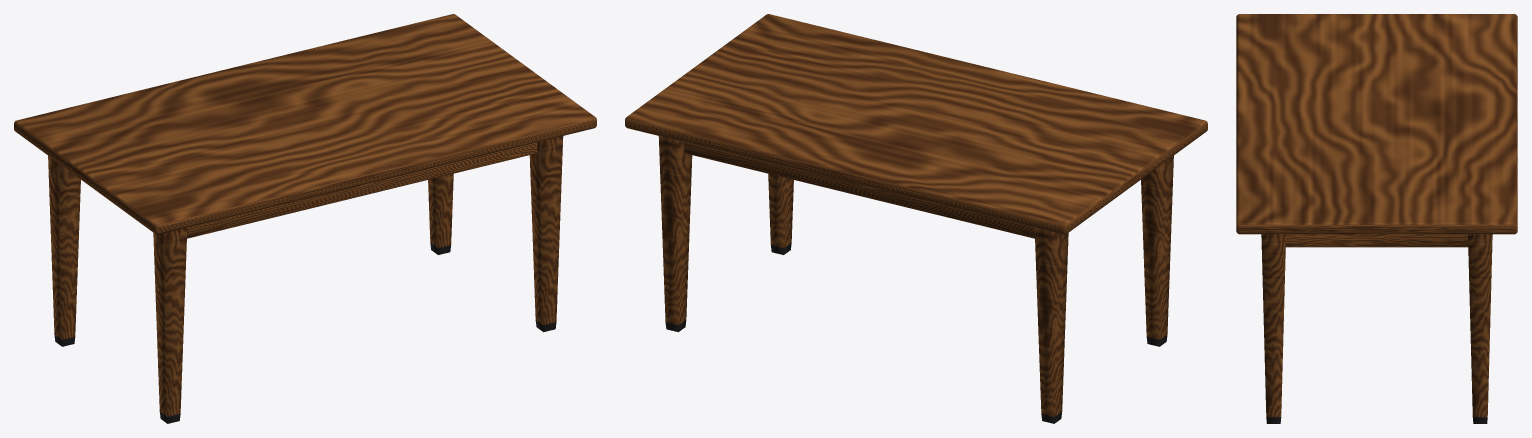
File: dining_table.glb
The picture shows the model from 3 angles, left to right: view 1: azimuth 30°, elevation 25°; view 2: azimuth 150°, elevation 25°; view 3: azimuth 270°, elevation 25°; orthographic projection.
Visible parts, largest first — view 1: Masa_Tablasi, Ayak_OnSol, Ayak_OnSag, Ayak_ArkaSol, Cerceve_On, Ayak_ArkaSag; view 2: Masa_Tablasi, Ayak_ArkaSol, Ayak_ArkaSag, Ayak_OnSol, Cerceve_Arka, Ayak_OnSag; view 3: Masa_Tablasi, Ayak_ArkaSag, Ayak_OnSag, Cerceve_Sag.
Part boxes in pixels (left/top/right/bottom): Masa_Tablasi: left=14, top=14, right=596, bottom=234; Ayak_OnSol: left=153, top=227, right=187, bottom=416; Ayak_OnSag: left=529, top=136, right=563, bottom=325; Ayak_ArkaSol: left=48, top=156, right=80, bottom=339; Cerceve_On: left=187, top=142, right=537, bottom=238; Ayak_ArkaSag: left=428, top=173, right=453, bottom=248; Masa_Tablasi: left=625, top=14, right=1207, bottom=234; Ayak_ArkaSol: left=1034, top=228, right=1068, bottom=416; Ayak_ArkaSag: left=658, top=136, right=692, bottom=325; Ayak_OnSol: left=1141, top=156, right=1173, bottom=339; Cerceve_Arka: left=684, top=142, right=1034, bottom=238; Ayak_OnSag: left=768, top=174, right=793, bottom=248; Masa_Tablasi: left=1236, top=14, right=1517, bottom=234; Ayak_ArkaSag: left=1468, top=234, right=1492, bottom=417; Ayak_OnSag: left=1261, top=234, right=1285, bottom=417; Cerceve_Sag: left=1285, top=234, right=1468, bottom=247.
Size of the model in its own units: 1.6 by 0.75 by 0.8998.
Materials: 4 (3 with a texture image).
